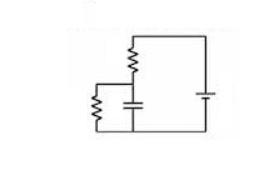resistor: (84, 84, 107, 132), (121, 37, 142, 78)
